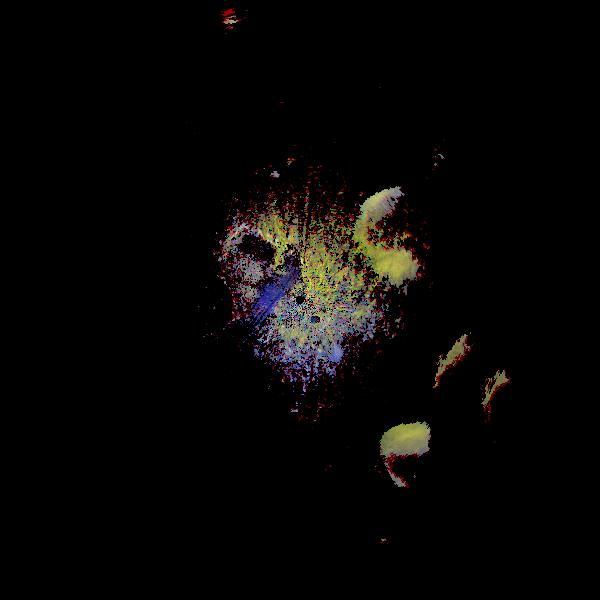roost: (337, 139, 511, 313), (358, 399, 496, 537)
